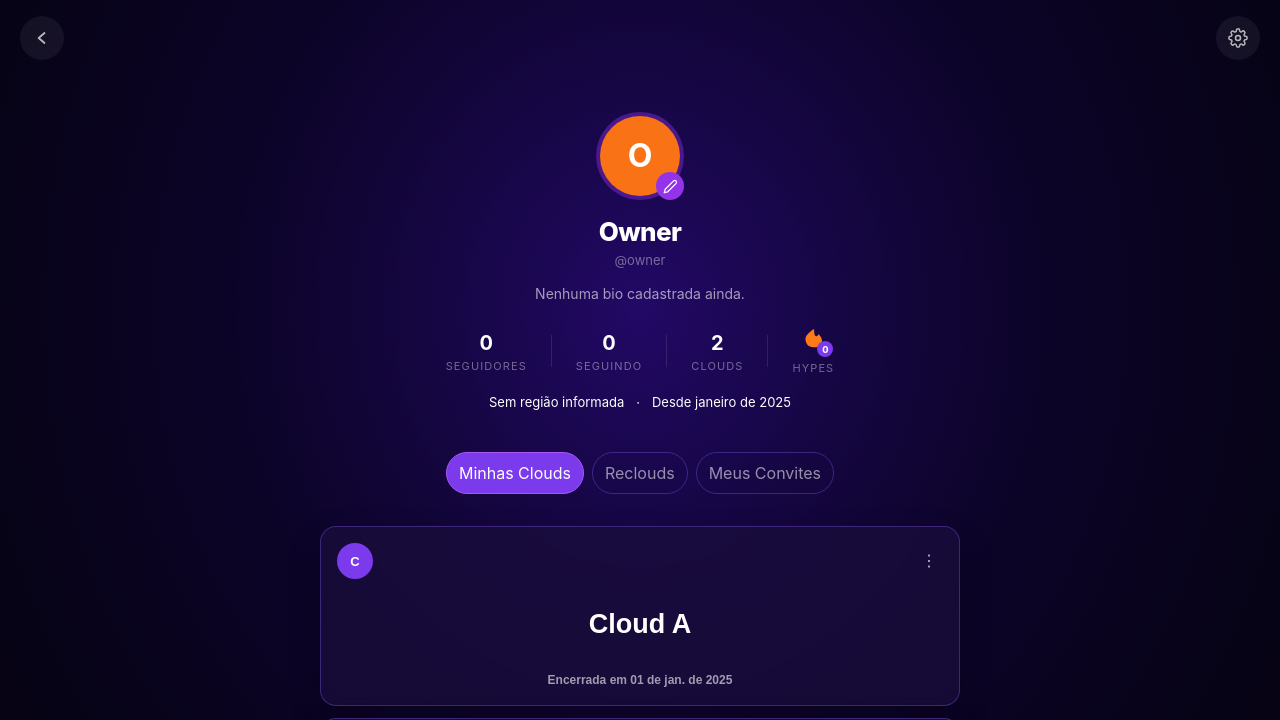
Test: profile Cloud deletion › removes the Cloud and decrements the count after a successful deletion
Expected: the heading "Cloud A" is shown, [589,608,691,642]
Step 1. Click the button named "Opções da Cloud" → (929, 561), box [915,545,943,577]
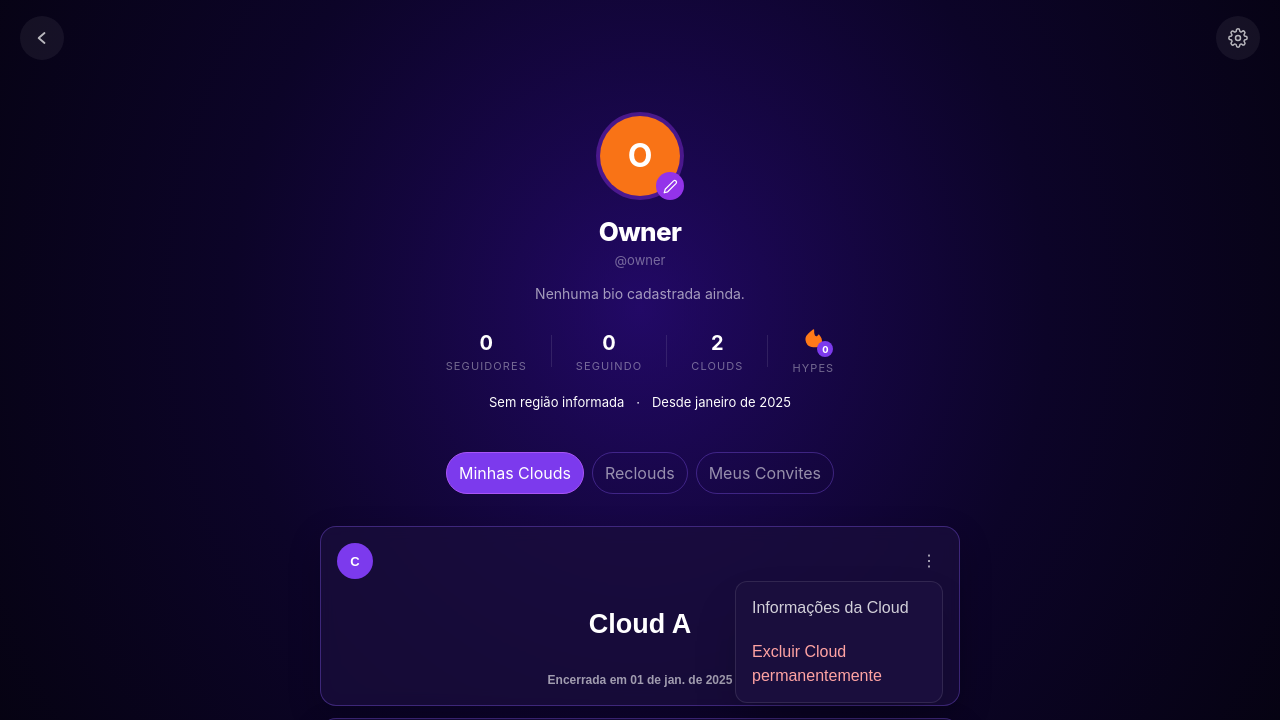
Step 2. Click the button "Excluir Cloud permanentemente" → (839, 664), box [736,630,942,698]
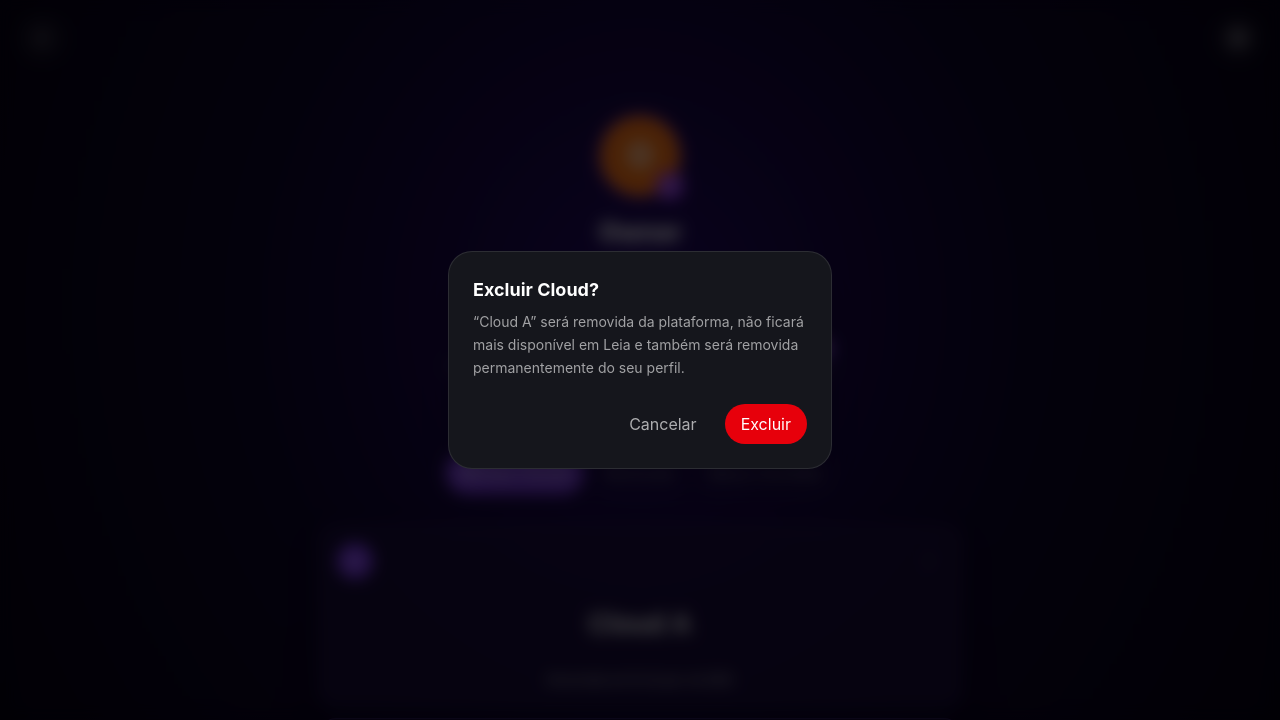
Step 3. Click the button "Excluir" → (766, 424), box [725,404,807,444]
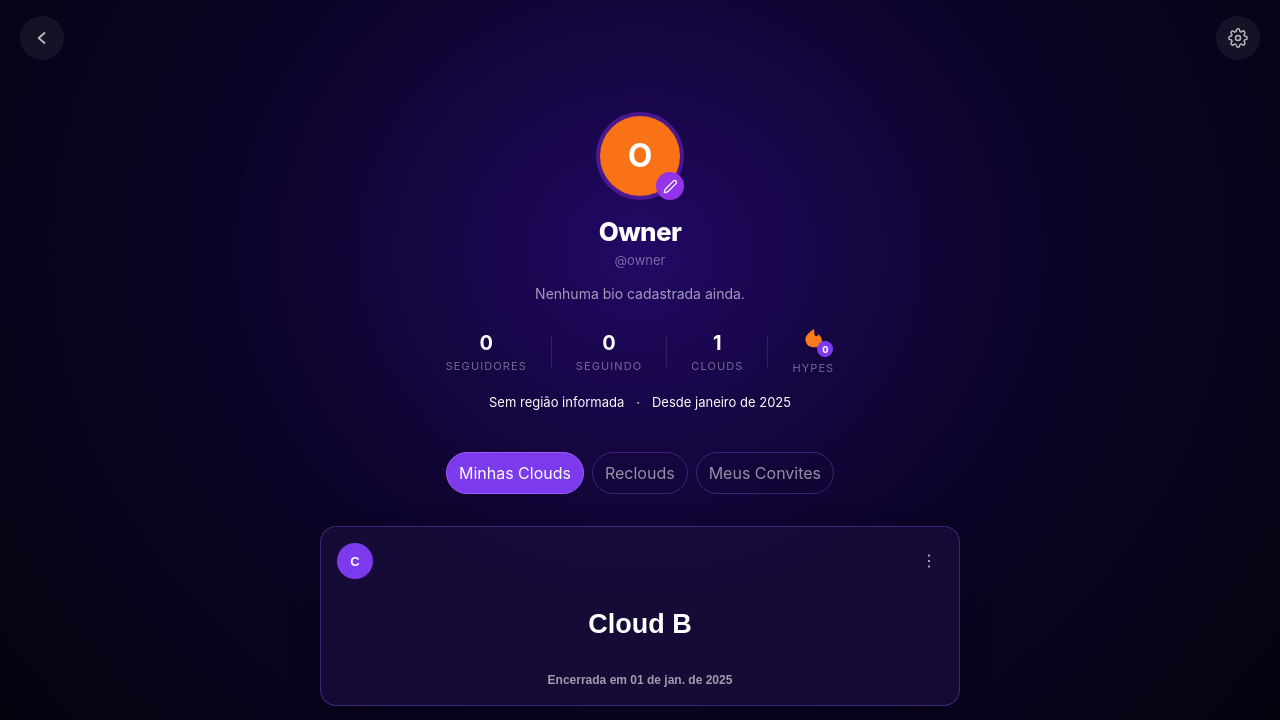
Expected: the heading "Cloud B" is shown, [588,608,692,642]
Result: the link "Cloud A" is gone
Result: the text "1" is shown at [713,331,722,355]
